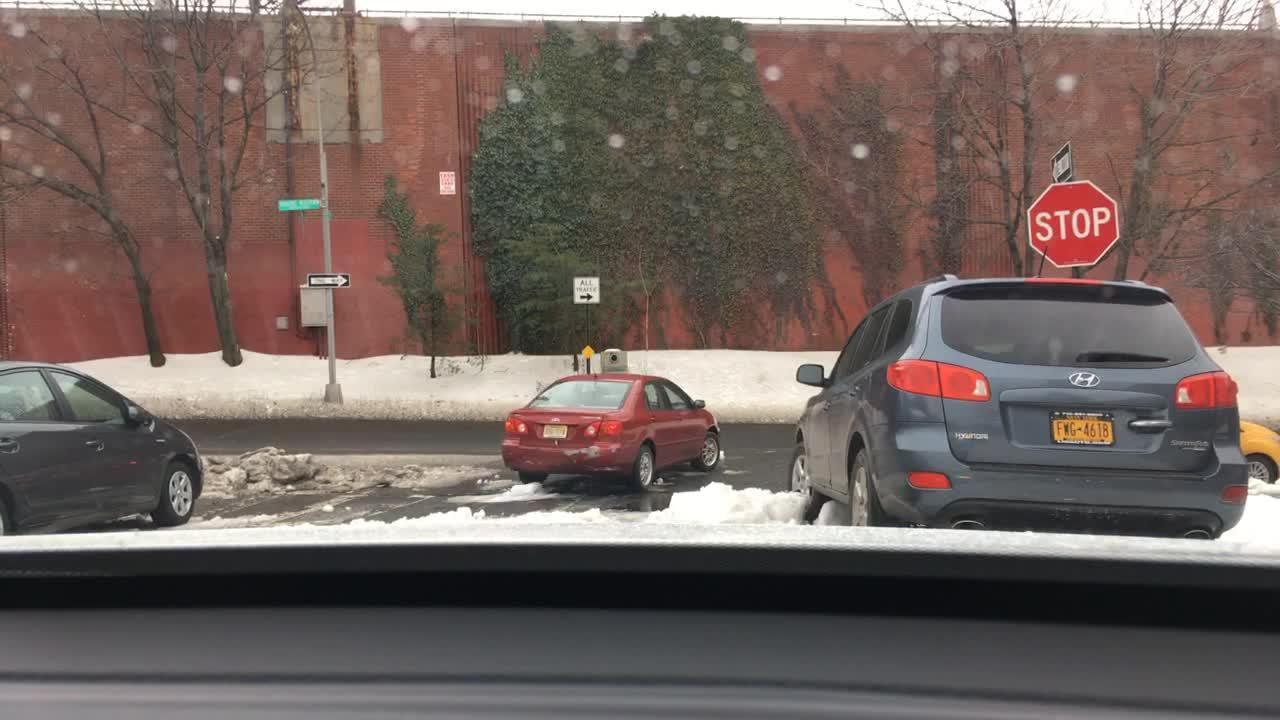Hyundai: (1062, 367, 1104, 393)
